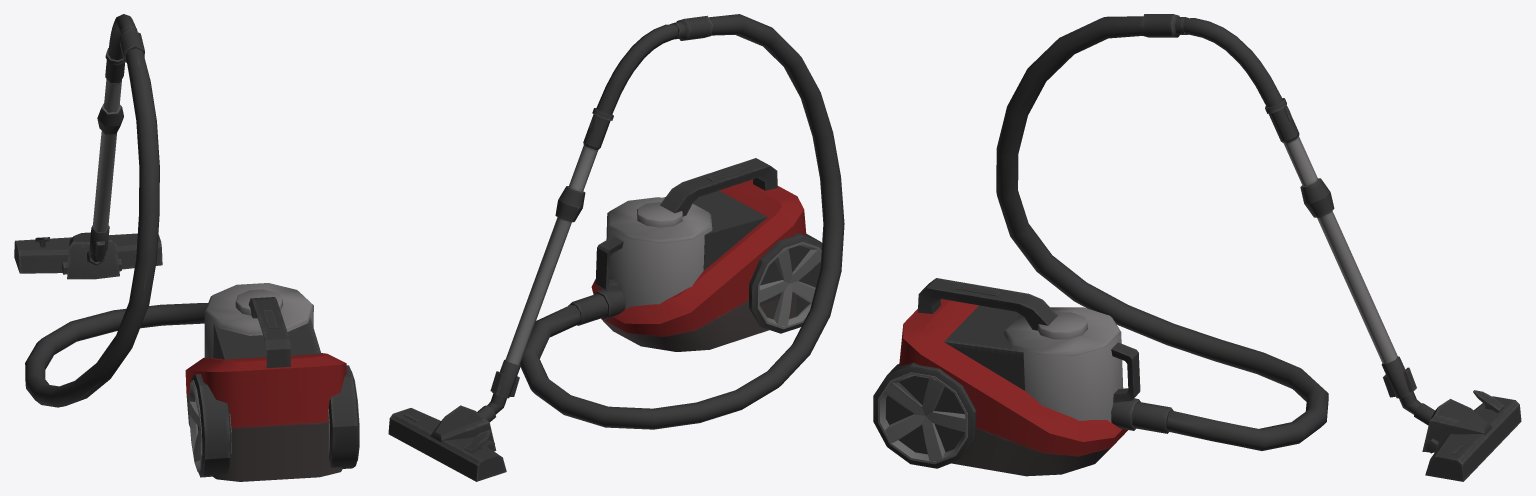
The model's file is vacuum.fbx.
3 views of the same model, side by side, from view 1: azimuth 30°, elevation 25°; view 2: azimuth 150°, elevation 25°; view 3: azimuth 270°, elevation 25° (orthographic). The views are drawn at different scales.
Visible parts, largest first — view 1: vacuum; view 2: vacuum; view 3: vacuum.
Part boxes in pixels (bbox=[...]): vacuum: bbox=[14, 14, 359, 481]; vacuum: bbox=[388, 14, 844, 481]; vacuum: bbox=[873, 14, 1521, 481].
Size of the model in its own units: 0.7436 by 1 by 1.47.
